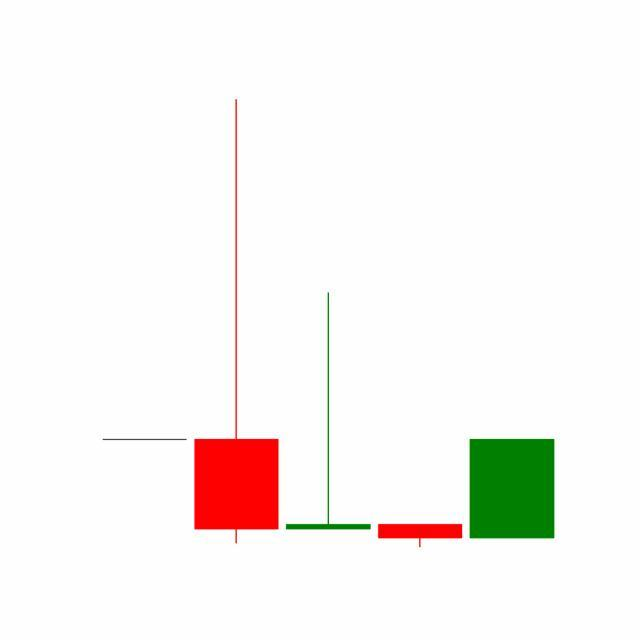Marubozu: (466, 438, 559, 540)
